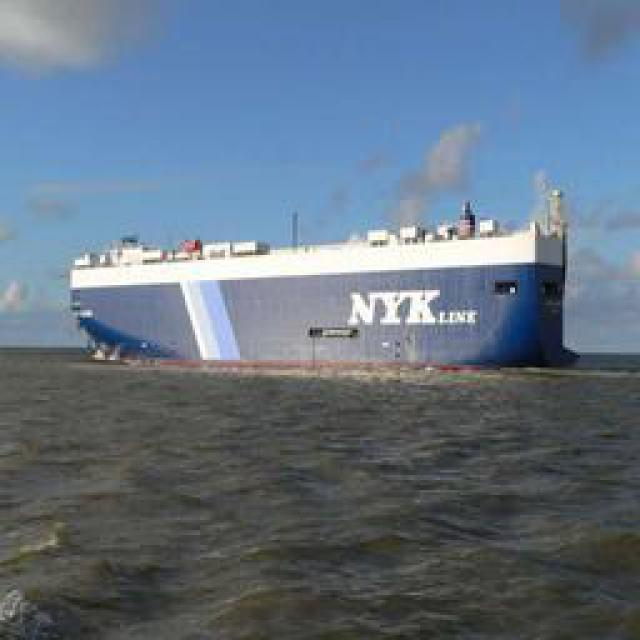Ship: (71, 174, 566, 369)
